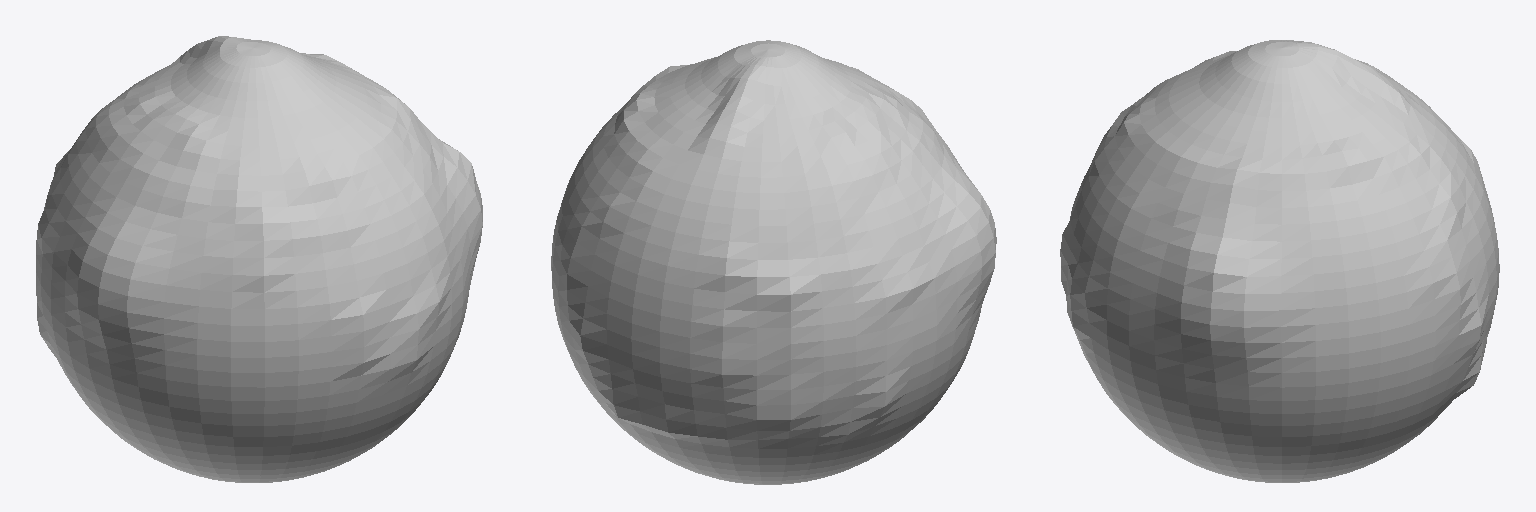
File: strada_terrain3.obj
3 renders of one model, left to right at view 1: azimuth 30°, elevation 25°; view 2: azimuth 150°, elevation 25°; view 3: azimuth 270°, elevation 25°, orthographic.
Parts seen in each view (by area): view 1: pSphere1; view 2: pSphere1; view 3: pSphere1.
Part boxes in pixels (x1,y1,x2,y2): pSphere1: (36, 36, 482, 482); pSphere1: (551, 40, 996, 484); pSphere1: (1060, 40, 1499, 482).
Size of the model in its own units: 13.02 by 13.14 by 12.6.